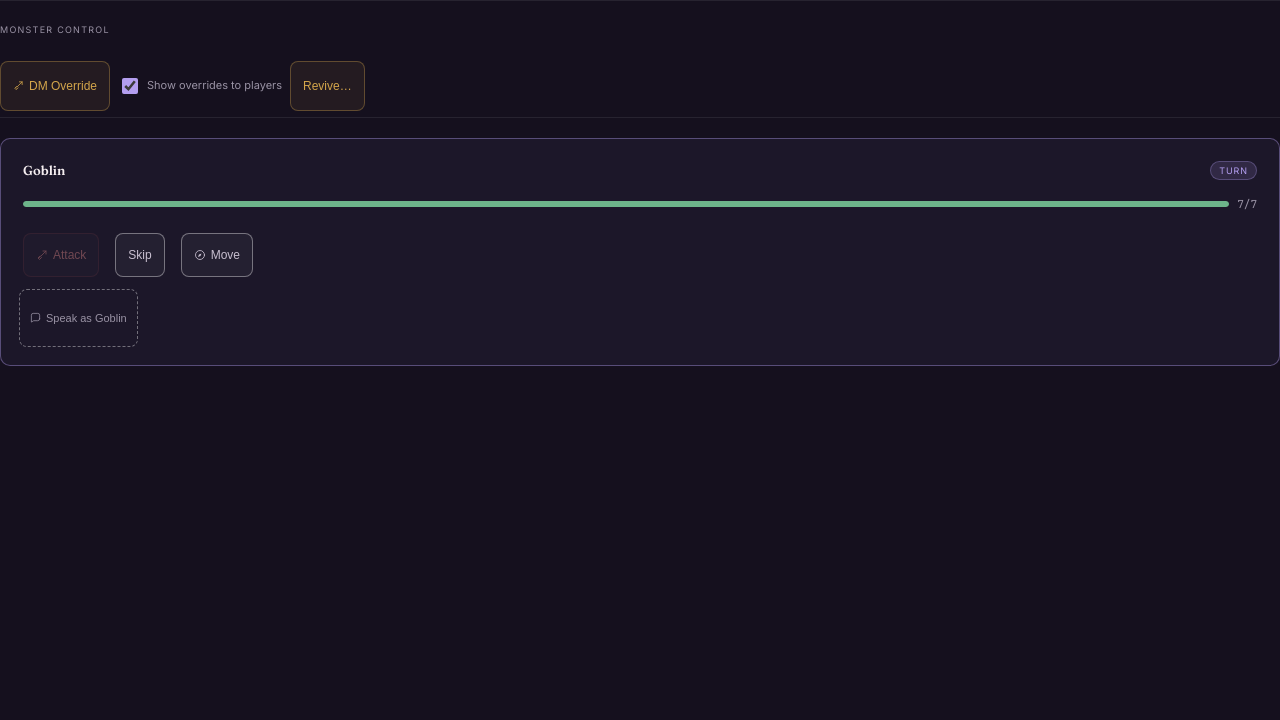
Revive… opener › opens the dialog on Revive, with the fallen character preselected
Click the button "Revive…" at (327, 86), box [290, 60, 365, 110]
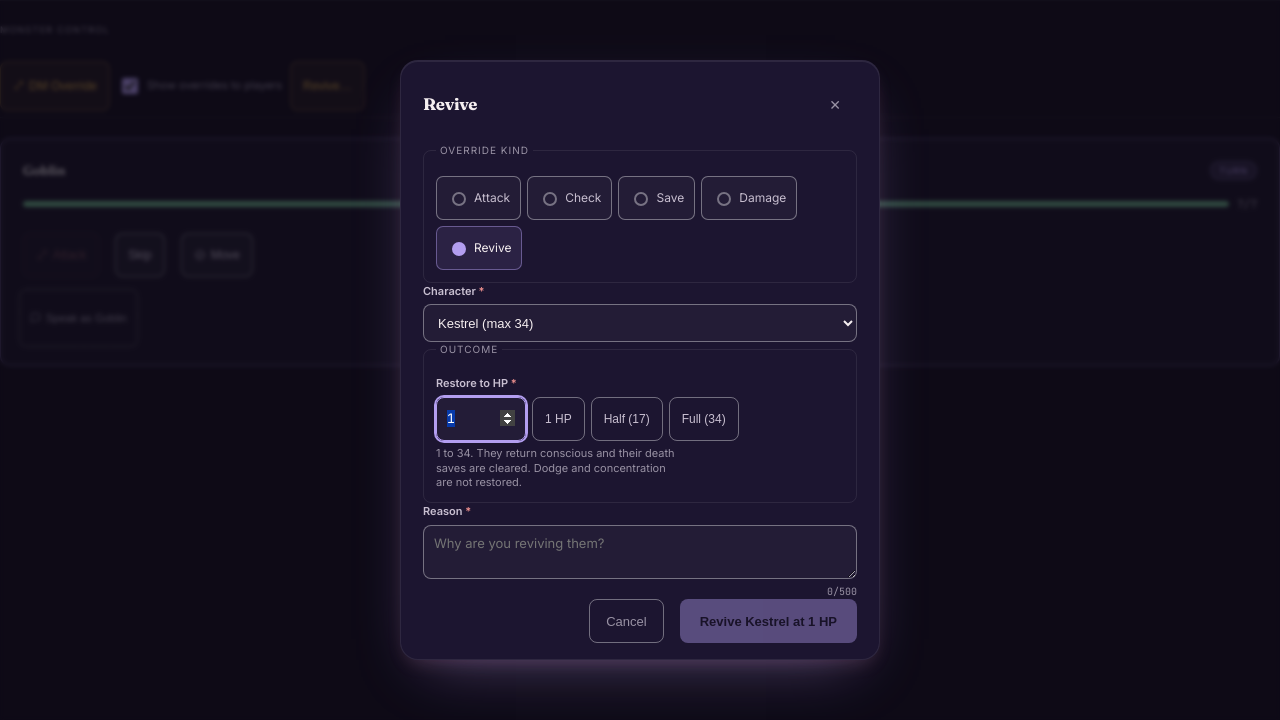
Result: the radio button labelled "Revive" is checked at [452, 242, 466, 256]
Result: the dropdown labelled "Character *" shows "Kestrel (max 34)" at [423, 304, 857, 342]
